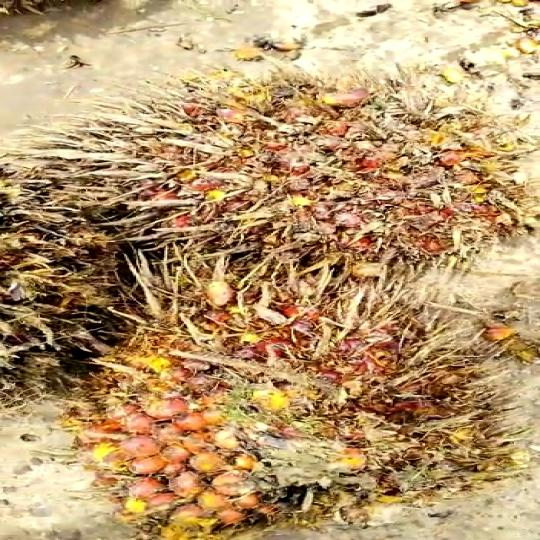terlalu masak: (50, 276, 540, 529), (27, 65, 540, 274)
